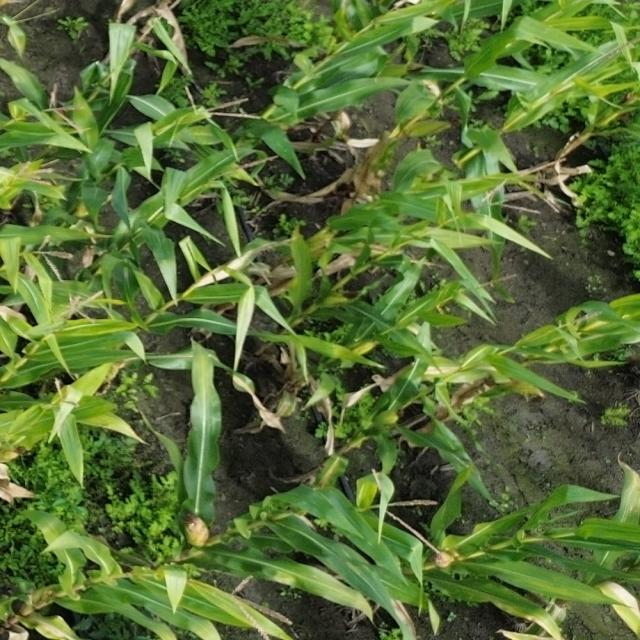northern-leaf-blight: (356, 345, 496, 401), (204, 351, 291, 437), (368, 569, 440, 640)
